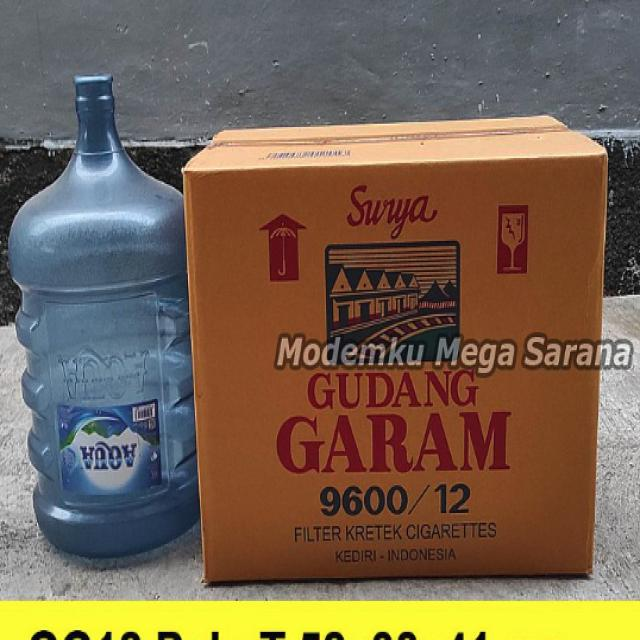Galon: (9, 73, 209, 557)
Kardus: (182, 112, 609, 583)
